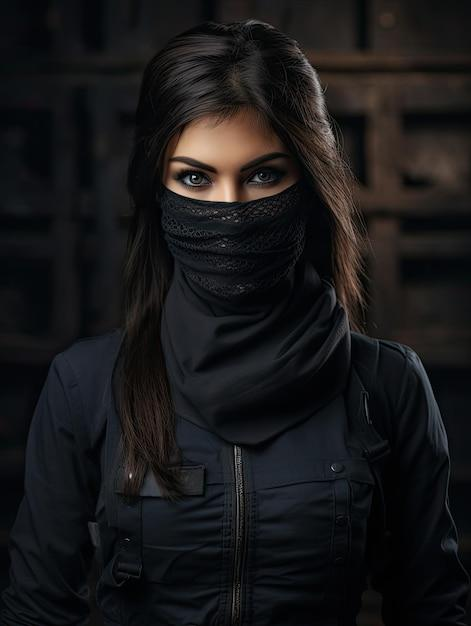scarf-kerchief: (145, 162, 348, 453)
